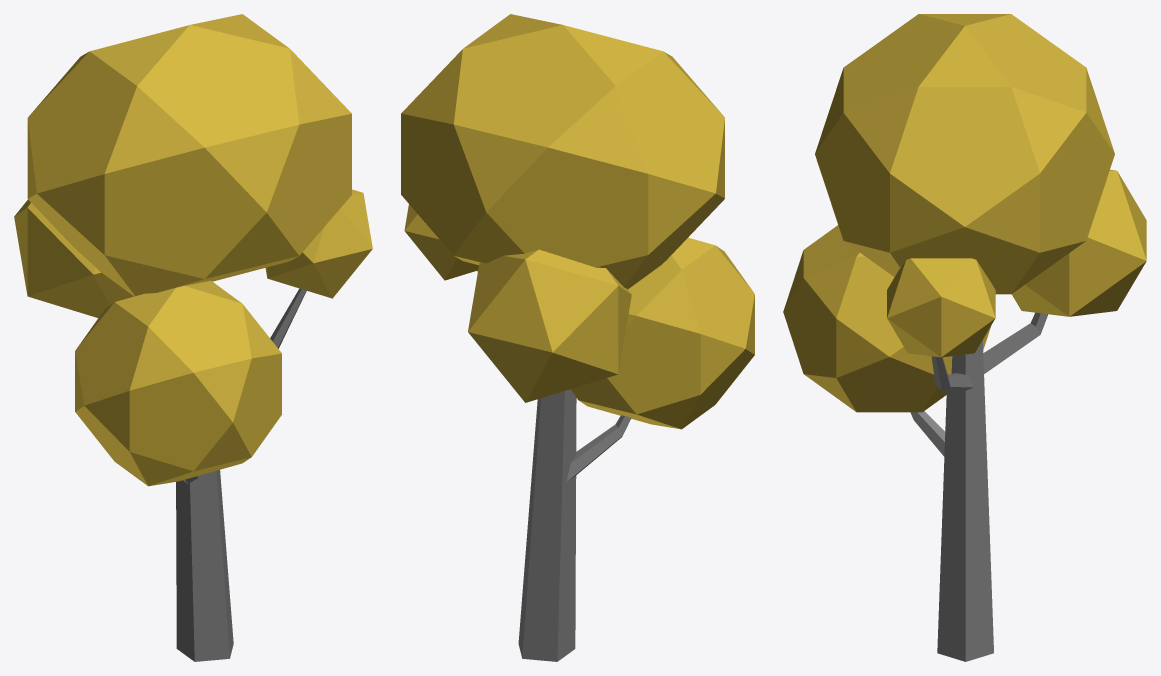
The model's file is Arbre3.1.fbx.
3 views of the same model, side by side, from view 1: azimuth 30°, elevation 25°; view 2: azimuth 150°, elevation 25°; view 3: azimuth 270°, elevation 25° (orthographic). The views are drawn at different scales.
Visible parts, largest first — view 1: NGon002; view 2: NGon002; view 3: NGon002.
Part boxes in pixels (x1,y1,x2,y2): NGon002: (14, 14, 372, 661); NGon002: (401, 14, 754, 661); NGon002: (783, 14, 1146, 661).
Size of the model in its own units: 59.34 by 114 by 60.85.
